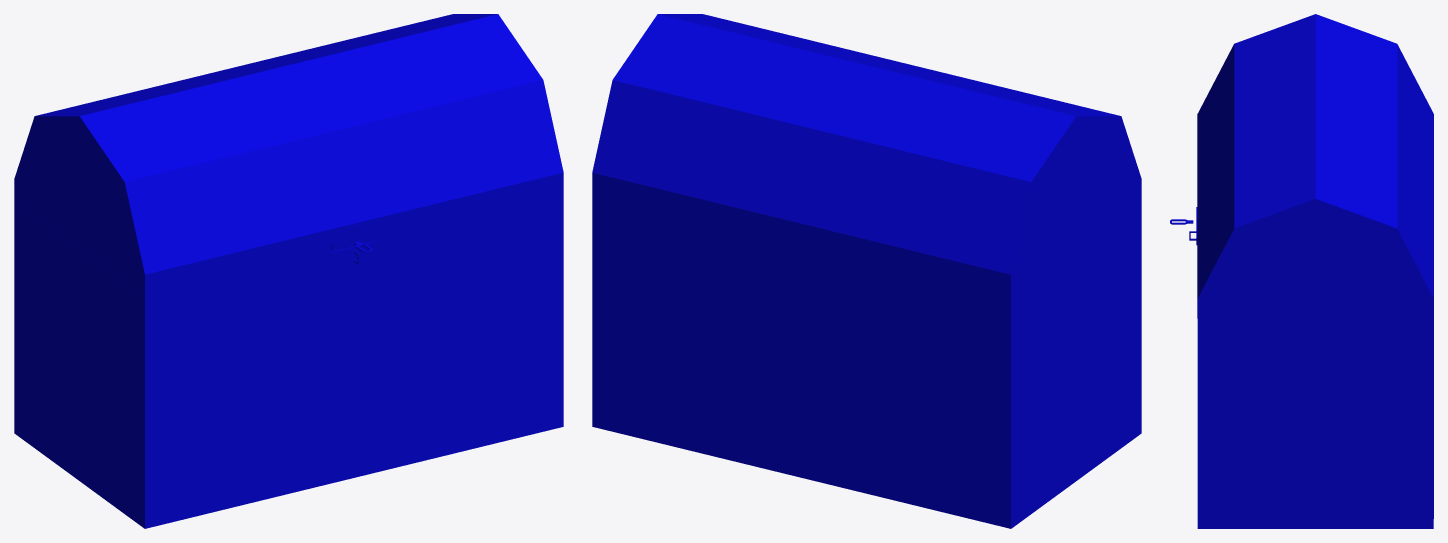
File: Chest_PHYS_001.fbx
3 views of the same model, side by side, from view 1: azimuth 30°, elevation 25°; view 2: azimuth 150°, elevation 25°; view 3: azimuth 270°, elevation 25° (orthographic). The views are drawn at different scales.
Parts seen in each view (by area): view 1: Chest_Box_PHYS_005, Chest_Lid_PHYS_004, Chest_Lid_PHYS_003, Chest_Box_PHYS_003, Chest_Lid_PHYS_005, Chest_Box_PHYS_001, Chest_Lid_PHYS_002, Chest_Box_PHYS_002, Chest_Lid_PHYS_001; view 2: Chest_Box_PHYS_002, Chest_Lid_PHYS_001, Chest_Lid_PHYS_002, Chest_Box_PHYS_003, Chest_Lid_PHYS_005, Chest_Box_PHYS_001, Chest_Lid_PHYS_003, Chest_Box_PHYS_005, Chest_Lid_PHYS_004; view 3: Chest_Box_PHYS_004, Chest_Lid_PHYS_006, Chest_Lid_PHYS_002, Chest_Lid_PHYS_003, Chest_Lid_PHYS_004, Chest_Lid_PHYS_001, Chest_Box_PHYS_005, Chest_Box_PHYS_002, Chest_Box_PHYS_001.
Part boxes in pixels (x1,y1,x2,y2): Chest_Box_PHYS_005: [137, 194, 563, 517]; Chest_Lid_PHYS_004: [120, 80, 563, 296]; Chest_Lid_PHYS_003: [79, 14, 542, 186]; Chest_Box_PHYS_003: [22, 207, 136, 511]; Chest_Lid_PHYS_005: [22, 128, 136, 289]; Chest_Box_PHYS_001: [14, 415, 563, 528]; Chest_Lid_PHYS_002: [34, 14, 497, 128]; Chest_Box_PHYS_002: [14, 201, 22, 427]; Chest_Lid_PHYS_001: [14, 116, 39, 205]; Chest_Box_PHYS_002: [592, 194, 1018, 517]; Chest_Lid_PHYS_001: [592, 80, 1035, 296]; Chest_Lid_PHYS_002: [613, 14, 1076, 186]; Chest_Box_PHYS_003: [1019, 207, 1133, 511]; Chest_Lid_PHYS_005: [1019, 128, 1133, 290]; Chest_Box_PHYS_001: [592, 415, 1141, 528]; Chest_Lid_PHYS_003: [658, 14, 1121, 128]; Chest_Box_PHYS_005: [1133, 201, 1141, 427]; Chest_Lid_PHYS_004: [1116, 116, 1141, 206]; Chest_Box_PHYS_004: [1212, 318, 1419, 518]; Chest_Lid_PHYS_006: [1212, 210, 1419, 318]; Chest_Lid_PHYS_002: [1315, 14, 1397, 236]; Chest_Lid_PHYS_003: [1234, 14, 1315, 235]; Chest_Lid_PHYS_004: [1197, 44, 1242, 318]; Chest_Lid_PHYS_001: [1388, 44, 1433, 318]; Chest_Box_PHYS_005: [1197, 318, 1211, 518]; Chest_Box_PHYS_002: [1419, 318, 1433, 518]; Chest_Box_PHYS_001: [1197, 519, 1433, 528].
Size of the model in its own units: 152 by 91.83 by 127.
